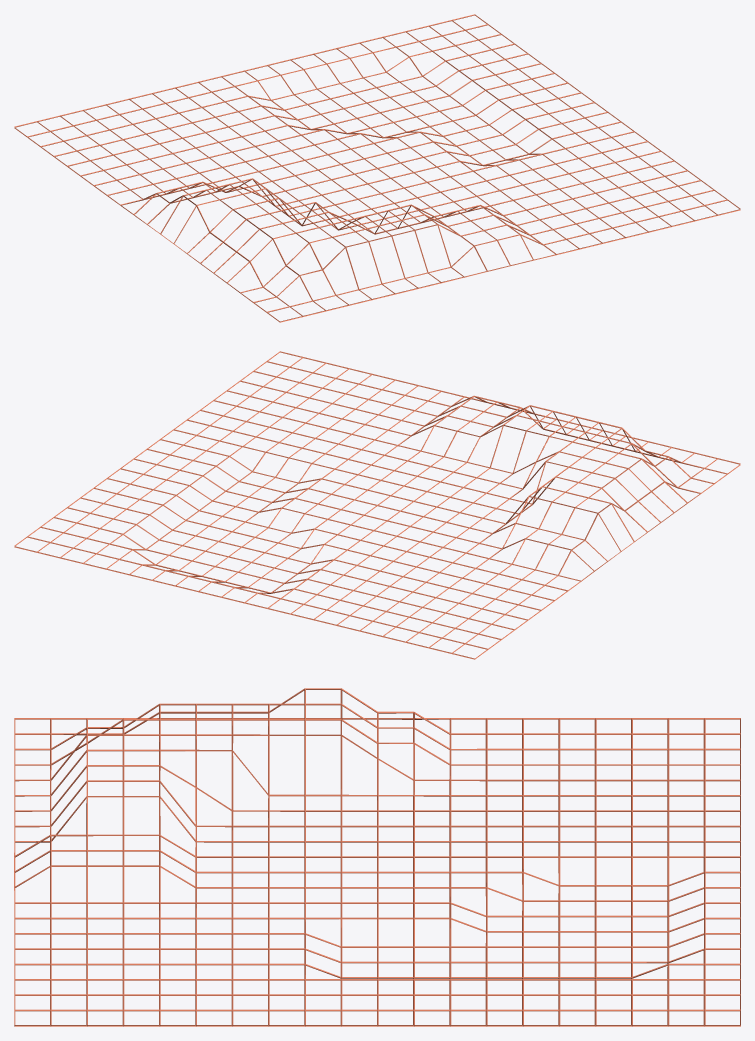
Rendered from test_overlay.glb.
3 renders of one model, top to bottom at view 1: azimuth 30°, elevation 25°; view 2: azimuth 150°, elevation 25°; view 3: azimuth 270°, elevation 25°, orthographic. The views are drawn at different scales.
Parts seen in each view (by area): view 1: Plane; view 2: Plane; view 3: Plane.
Part boxes in pixels (x1,y1,x2,y2): Plane: (14,14,740,322); Plane: (14,351,740,659); Plane: (14,688,740,1026).
Bounding box in the file's own units: 20.02 × 1.83 × 20.01.
